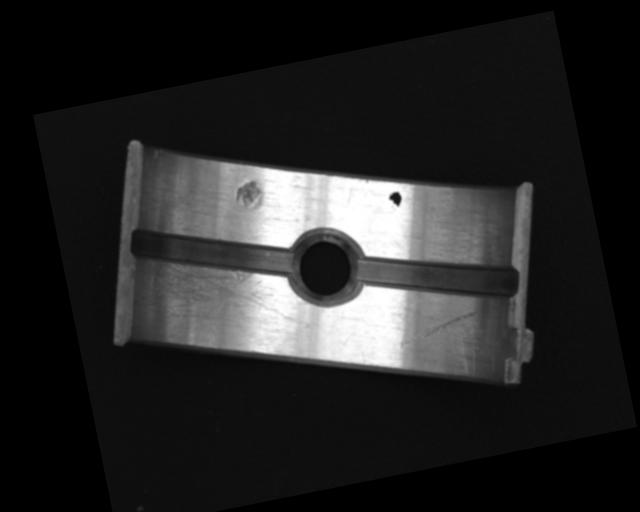blot: (387, 190, 404, 211)
bruise: (232, 178, 268, 214)
gap: (127, 201, 297, 304), (353, 226, 521, 326)
hole: (284, 226, 367, 309)
nick: (395, 308, 483, 348)
scratch: (131, 237, 295, 350)
